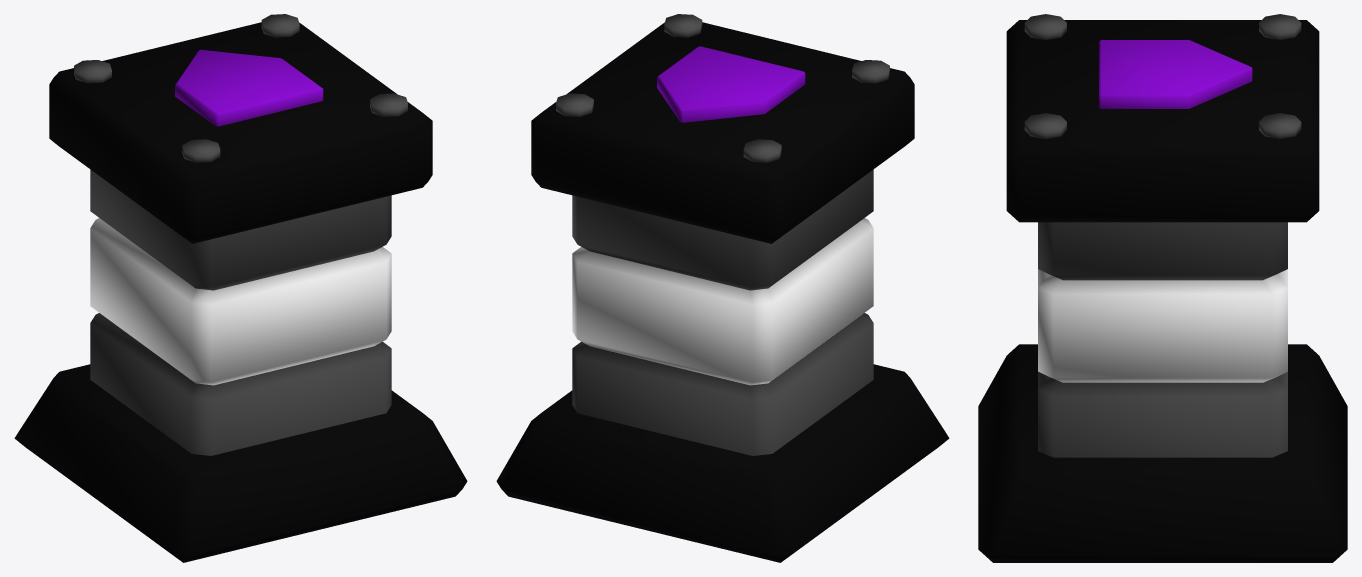
File: Interactor_Itembox_Shield.fbx
The picture shows the model from 3 angles, left to right: view 1: azimuth 30°, elevation 25°; view 2: azimuth 150°, elevation 25°; view 3: azimuth 270°, elevation 25°; orthographic projection. The views are drawn at different scales.
Visible parts, largest first — view 1: ItemBox; view 2: ItemBox; view 3: ItemBox.
Boxes of the visible parts, x1,y1,x2,y2 form: ItemBox: [14, 14, 467, 562]; ItemBox: [496, 14, 949, 562]; ItemBox: [978, 14, 1347, 562].
Bounding box in the file's own units: 104 × 132 × 104.
